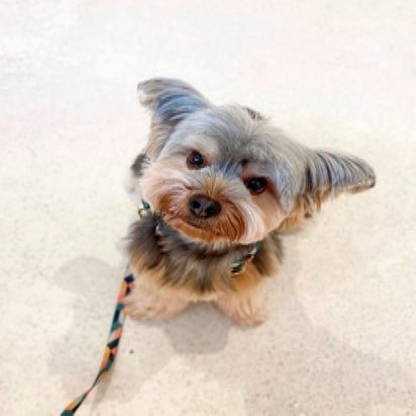yorkshire: (121, 69, 377, 331)
